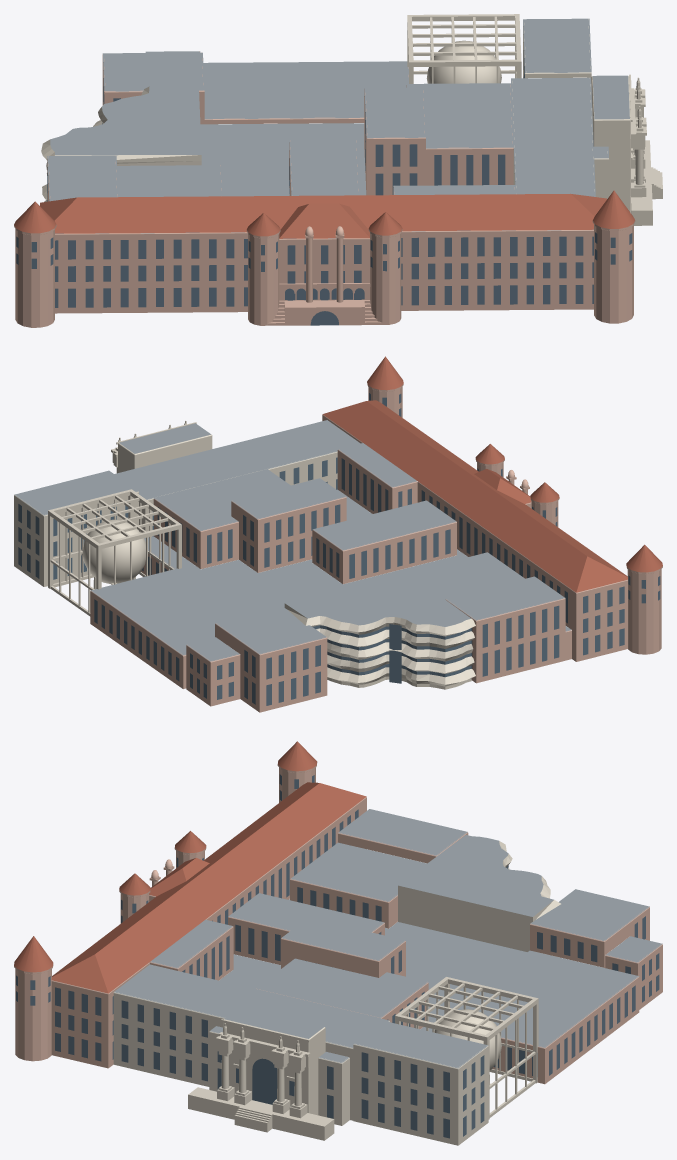
The model's file is detail.glb.
3 renders of one model, top to bottom at view 1: azimuth 30°, elevation 25°; view 2: azimuth 150°, elevation 25°; view 3: azimuth 270°, elevation 25°, orthographic. The views are drawn at different scales.
Visible parts, largest first — view 1: american-museum-of-natural-history; view 2: american-museum-of-natural-history; view 3: american-museum-of-natural-history.
Boxes of the visible parts, x1,y1,x2,y2 form: american-museum-of-natural-history: [14, 14, 662, 327]; american-museum-of-natural-history: [14, 356, 662, 712]; american-museum-of-natural-history: [14, 741, 662, 1145].
Size of the model in its own units: 268 by 48.7 by 243.
